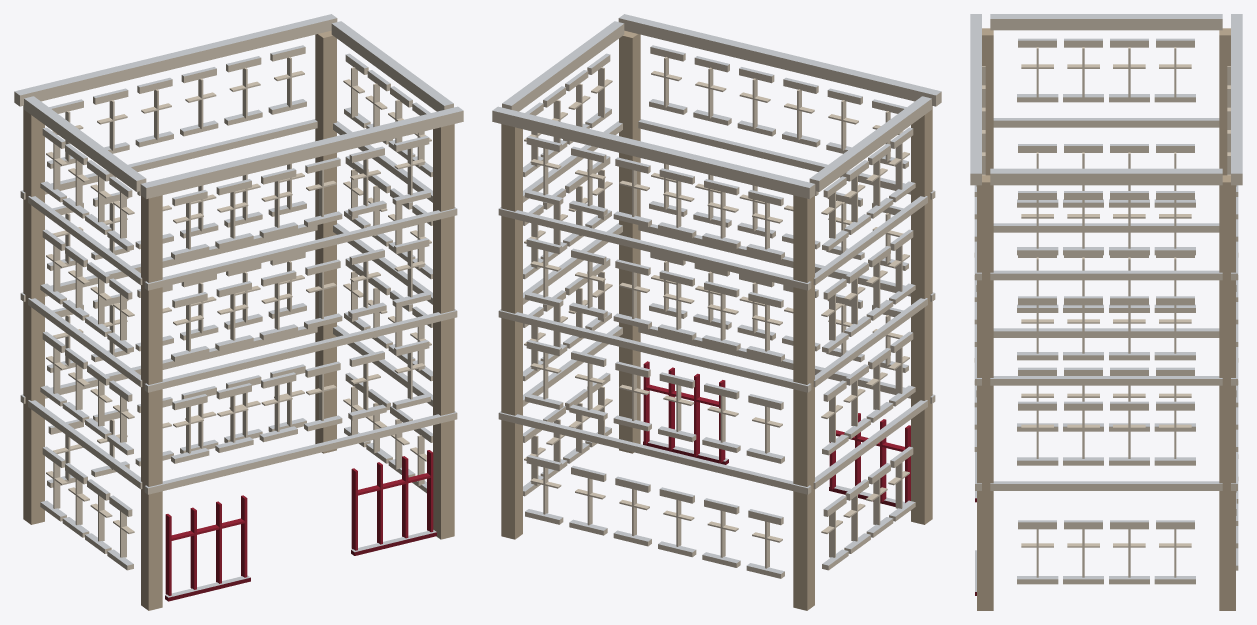
The model's file is Apartment_Green_Trim.glb.
The picture shows the model from 3 angles, left to right: view 1: azimuth 30°, elevation 25°; view 2: azimuth 150°, elevation 25°; view 3: azimuth 270°, elevation 25°; orthographic projection. The views are drawn at different scales.
Parts seen in each view (by area): view 1: Apartment_Green_Trim; view 2: Apartment_Green_Trim; view 3: Apartment_Green_Trim.
Boxes of the visible parts, x1,y1,x2,y2 form: Apartment_Green_Trim: (14, 14, 463, 610); Apartment_Green_Trim: (492, 14, 941, 610); Apartment_Green_Trim: (970, 14, 1242, 610).
Size of the model in its own units: 35.8 by 46 by 25.8.
